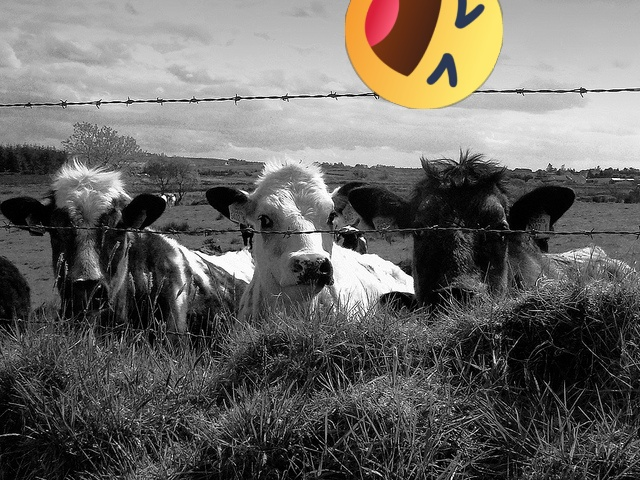haha: (345, 0, 503, 109)
